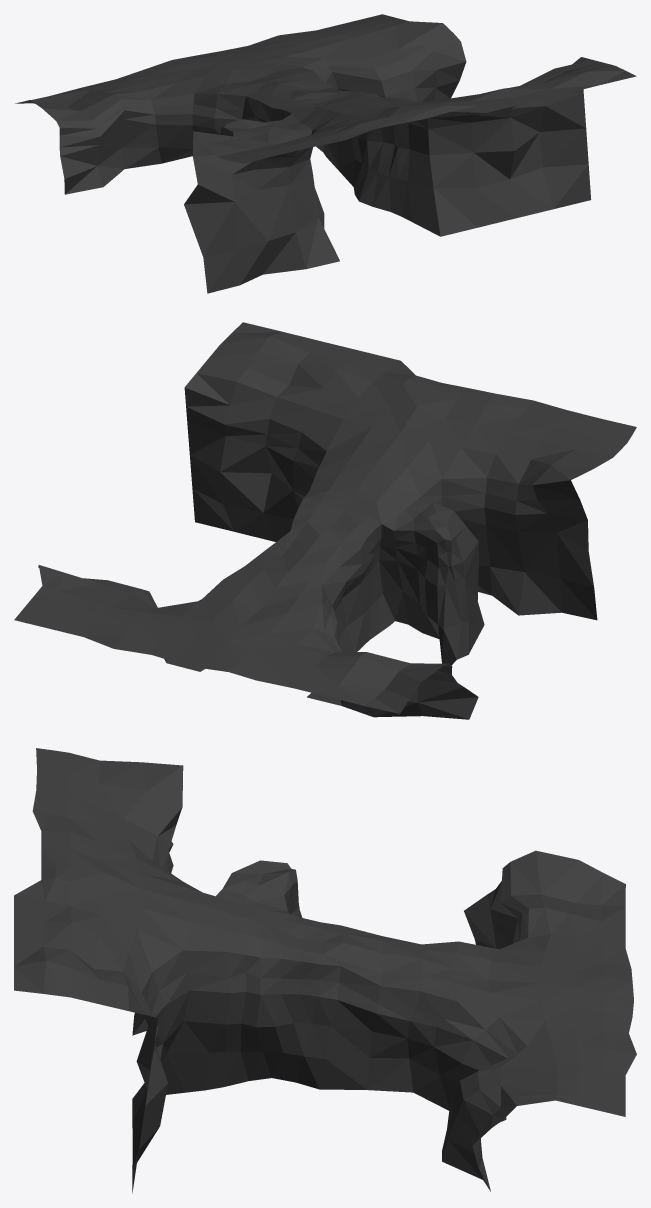
The model's file is Cave_11B.fbx.
3 views of the same model, one above another, from view 1: azimuth 30°, elevation 25°; view 2: azimuth 150°, elevation 25°; view 3: azimuth 270°, elevation 25° (orthographic). The views are drawn at different scales.
Visible parts, largest first — view 1: pPlane12; view 2: pPlane12; view 3: pPlane12.
Part boxes in pixels (box(x1,y1,x2,y2)): pPlane12: box(15, 14, 636, 293); pPlane12: box(14, 322, 636, 719); pPlane12: box(14, 748, 636, 1193).
Size of the model in its own units: 40.66 by 16.68 by 41.64.
